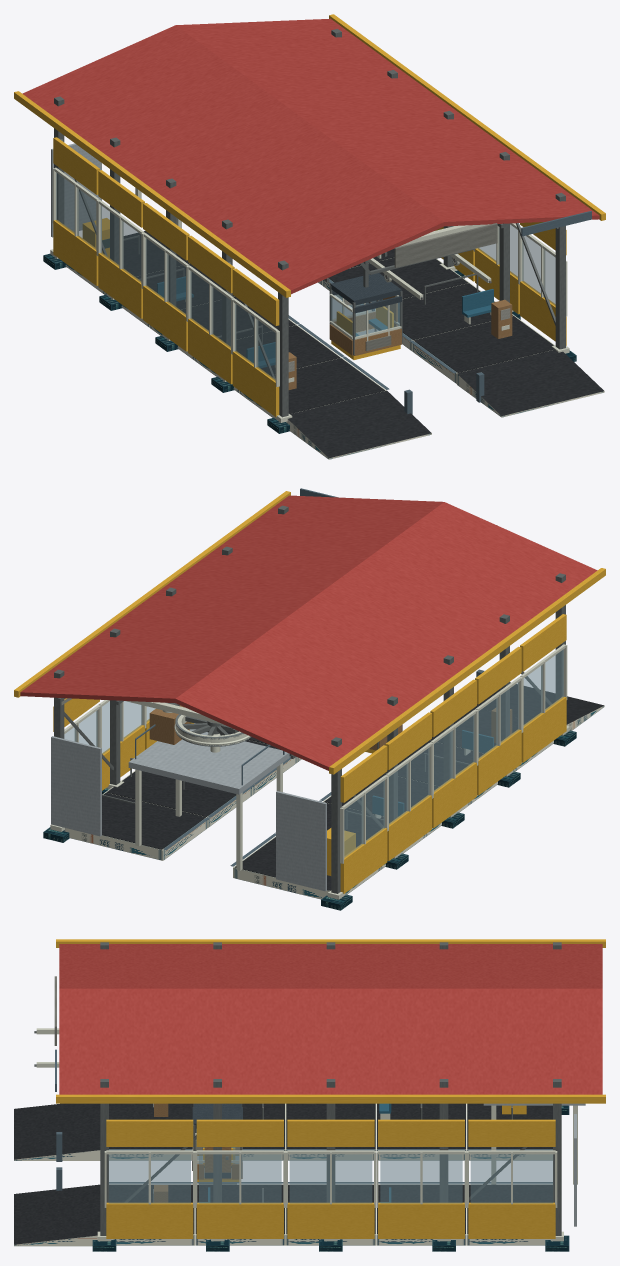
Rendered from PROJECT_Z_Mountain_Cable_Car_Station.glb.
The picture shows the model from 3 angles, top to bottom: view 1: azimuth 30°, elevation 25°; view 2: azimuth 150°, elevation 25°; view 3: azimuth 270°, elevation 25°; orthographic projection.
Parts seen in each view (by area): view 1: ROOF_WEST_4m_PANEL_00, ROOF_WEST_4m_PANEL_02, ROOF_WEST_4m_PANEL_03, ROOF_WEST_4m_PANEL_04, ROOF_WEST_4m_PANEL_01, ROOF_WEST_4m_PANEL_05, Passenger_Access_Ramp_LEFT, ROOF_EAST_4m_PANEL_00, Passenger_Access_Ramp_RIGHT, ROOF_EAST_4m_PANEL_02, ROOF_EAST_4m_PANEL_03, ROOF_EAST_4m_PANEL_04 (+42 smaller); view 2: ROOF_WEST_4m_PANEL_05, ROOF_WEST_4m_PANEL_03, ROOF_WEST_4m_PANEL_02, ROOF_WEST_4m_PANEL_04, ROOF_WEST_4m_PANEL_01, ROOF_WEST_4m_PANEL_00, ROOF_EAST_4m_PANEL_05, ROOF_EAST_4m_PANEL_03, ROOF_EAST_4m_PANEL_02, ROOF_EAST_4m_PANEL_01, ROOF_EAST_4m_PANEL_00, ROOF_EAST_4m_PANEL_04 (+37 smaller); view 3: ROOF_EAST_4m_PANEL_01, ROOF_EAST_4m_PANEL_02, ROOF_EAST_4m_PANEL_03, ROOF_EAST_4m_PANEL_00, ROOF_EAST_4m_PANEL_04, ROOF_EAST_4m_PANEL_05, SIDEWALL_EAST_PANEL_AND_WINDOW_FRAMES_01, SIDEWALL_EAST_PANEL_AND_WINDOW_FRAMES_04, SIDEWALL_EAST_PANEL_AND_WINDOW_FRAMES_00, SIDEWALL_EAST_PANEL_AND_WINDOW_FRAMES_03, SIDEWALL_EAST_PANEL_AND_WINDOW_FRAMES_02, ROOF_EAST_EDGE_FASCIA (+40 smaller).
Boxes of the visible parts, <box> form: ROOF_WEST_4m_PANEL_00: <box>246,189,444,294</box>; ROOF_WEST_4m_PANEL_02: <box>157,123,354,224</box>; ROOF_WEST_4m_PANEL_03: <box>112,91,309,191</box>; ROOF_WEST_4m_PANEL_04: <box>67,58,264,158</box>; ROOF_WEST_4m_PANEL_01: <box>202,156,399,257</box>; ROOF_WEST_4m_PANEL_05: <box>22,25,219,126</box>; Passenger_Access_Ramp_LEFT: <box>286,390,431,459</box>; ROOF_EAST_4m_PANEL_00: <box>400,182,599,226</box>; Passenger_Access_Ramp_RIGHT: <box>457,349,604,417</box>; ROOF_EAST_4m_PANEL_02: <box>310,117,509,156</box>; ROOF_EAST_4m_PANEL_03: <box>265,84,464,123</box>; ROOF_EAST_4m_PANEL_04: <box>221,51,419,90</box>; ROOF_WEST_4m_PANEL_05: <box>175,666,373,770</box>; ROOF_WEST_4m_PANEL_03: <box>265,600,462,701</box>; ROOF_WEST_4m_PANEL_02: <box>310,567,507,668</box>; ROOF_WEST_4m_PANEL_04: <box>220,633,418,734</box>; ROOF_WEST_4m_PANEL_01: <box>355,534,552,635</box>; ROOF_WEST_4m_PANEL_00: <box>400,502,597,602</box>; ROOF_EAST_4m_PANEL_05: <box>20,659,219,703</box>; ROOF_EAST_4m_PANEL_03: <box>110,594,309,632</box>; ROOF_EAST_4m_PANEL_02: <box>155,561,354,600</box>; ROOF_EAST_4m_PANEL_01: <box>200,528,398,567</box>; ROOF_EAST_4m_PANEL_00: <box>245,495,443,534</box>; ROOF_EAST_4m_PANEL_04: <box>65,626,264,665</box>; ROOF_EAST_4m_PANEL_01: <box>149,988,240,1094</box>; ROOF_EAST_4m_PANEL_02: <box>240,988,330,1094</box>; ROOF_EAST_4m_PANEL_03: <box>331,988,421,1094</box>; ROOF_EAST_4m_PANEL_00: <box>59,988,149,1094</box>; ROOF_EAST_4m_PANEL_04: <box>421,988,511,1094</box>; ROOF_EAST_4m_PANEL_05: <box>512,988,602,1094</box>; SIDEWALL_EAST_PANEL_AND_WINDOW_FRAMES_01: <box>195,1119,285,1238</box>; SIDEWALL_EAST_PANEL_AND_WINDOW_FRAMES_04: <box>466,1119,557,1238</box>; SIDEWALL_EAST_PANEL_AND_WINDOW_FRAMES_00: <box>104,1119,194,1238</box>; SIDEWALL_EAST_PANEL_AND_WINDOW_FRAMES_03: <box>376,1119,466,1238</box>; SIDEWALL_EAST_PANEL_AND_WINDOW_FRAMES_02: <box>285,1119,375,1238</box>; ROOF_EAST_EDGE_FASCIA: <box>56,1094,605,1103</box>.
Bounding box in the file's own units: 16.48 × 9.25 × 26.15.
2 materials, 1 textured.
